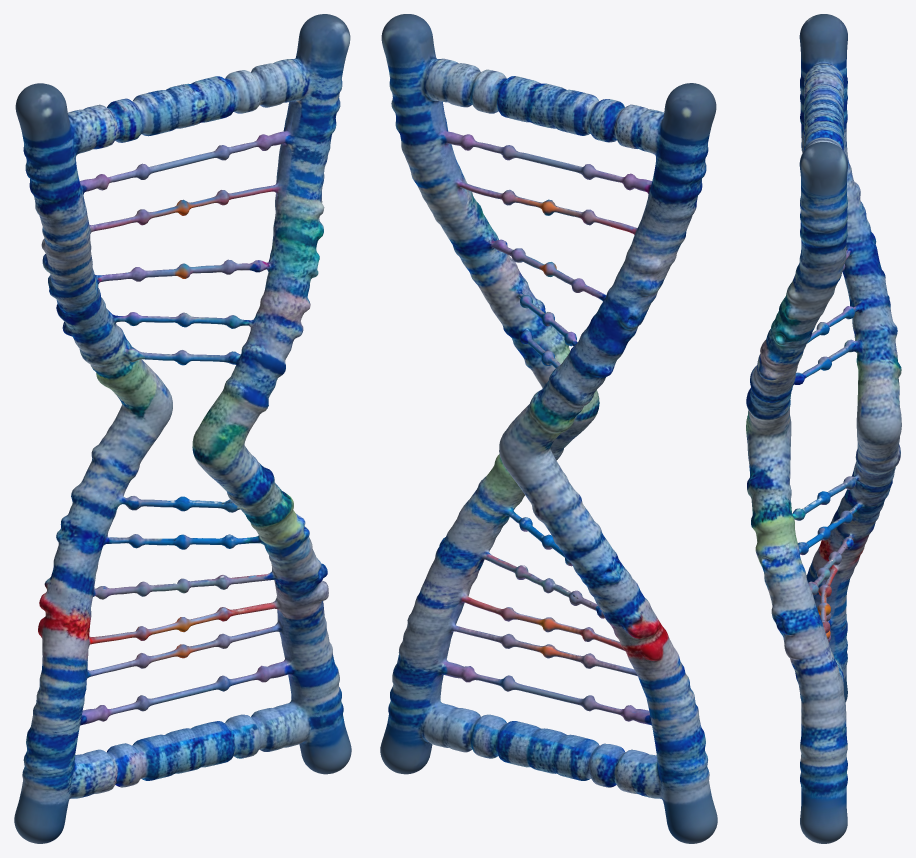
Rendered from dna_helix.glb.
3 views of the same model, side by side, from view 1: azimuth 30°, elevation 25°; view 2: azimuth 150°, elevation 25°; view 3: azimuth 270°, elevation 25° (orthographic). The views are drawn at different scales.
Parts seen in each view (by area): view 1: model; view 2: model; view 3: model.
Boxes of the visible parts, x1=… form: model: x1=14, y1=14, x2=351, y2=843; model: x1=380, y1=14, x2=717, y2=843; model: x1=746, y1=14, x2=901, y2=843.
Bounding box in the file's own units: 0.8706 × 1.9 × 0.3854.
Materials: 1 (1 with a texture image).
